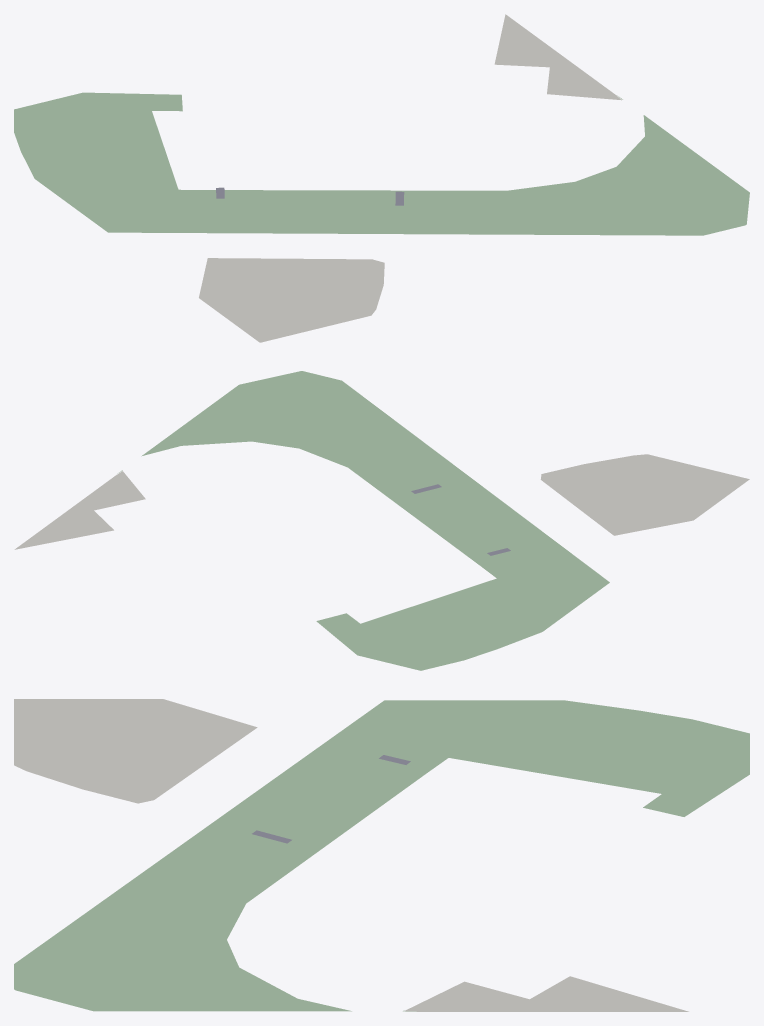
File: 109_115_mid.glb
3 renders of one model, top to bottom at view 1: azimuth 30°, elevation 25°; view 2: azimuth 150°, elevation 25°; view 3: azimuth 270°, elevation 25°, orthographic. The views are drawn at different scales.
Size of the model in its own units: 500 by 7.83 by 500.
